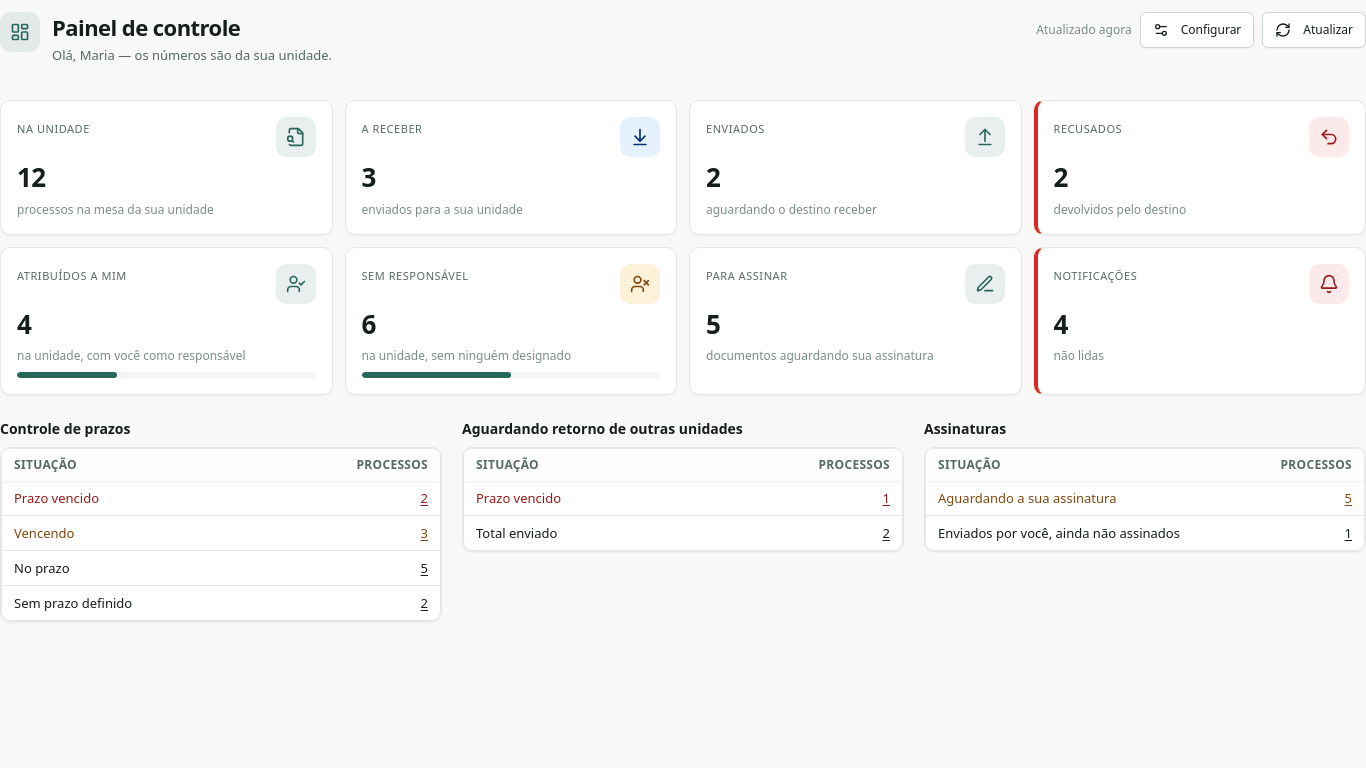
Test: painel de controle — mais perto do SEI › configurar esconde e reordena quadros, e guarda a escolha por usuário
Click the button "Configurar". click: (1197, 30)
box: [1140, 12, 1254, 48]
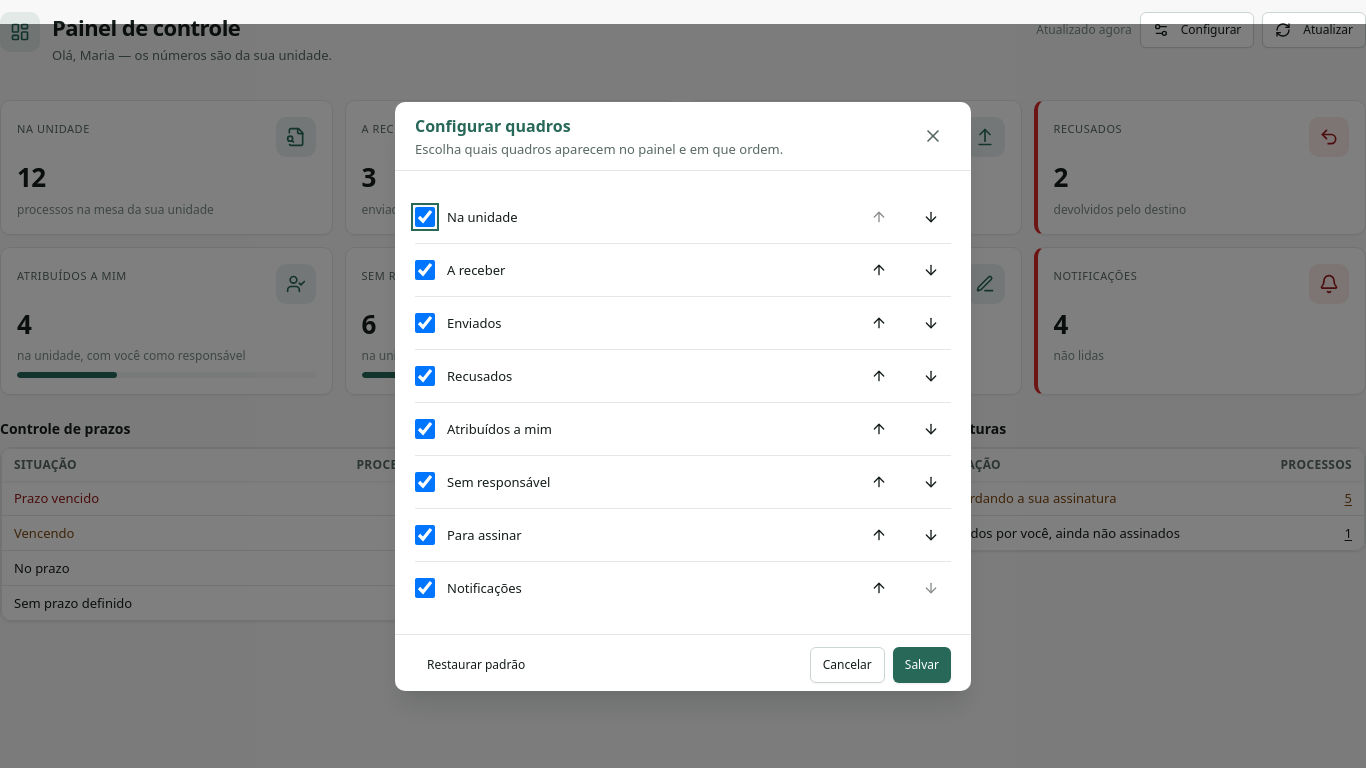
Click the checkbox labelled "Enviados". click: (425, 322)
box: [415, 312, 435, 332]
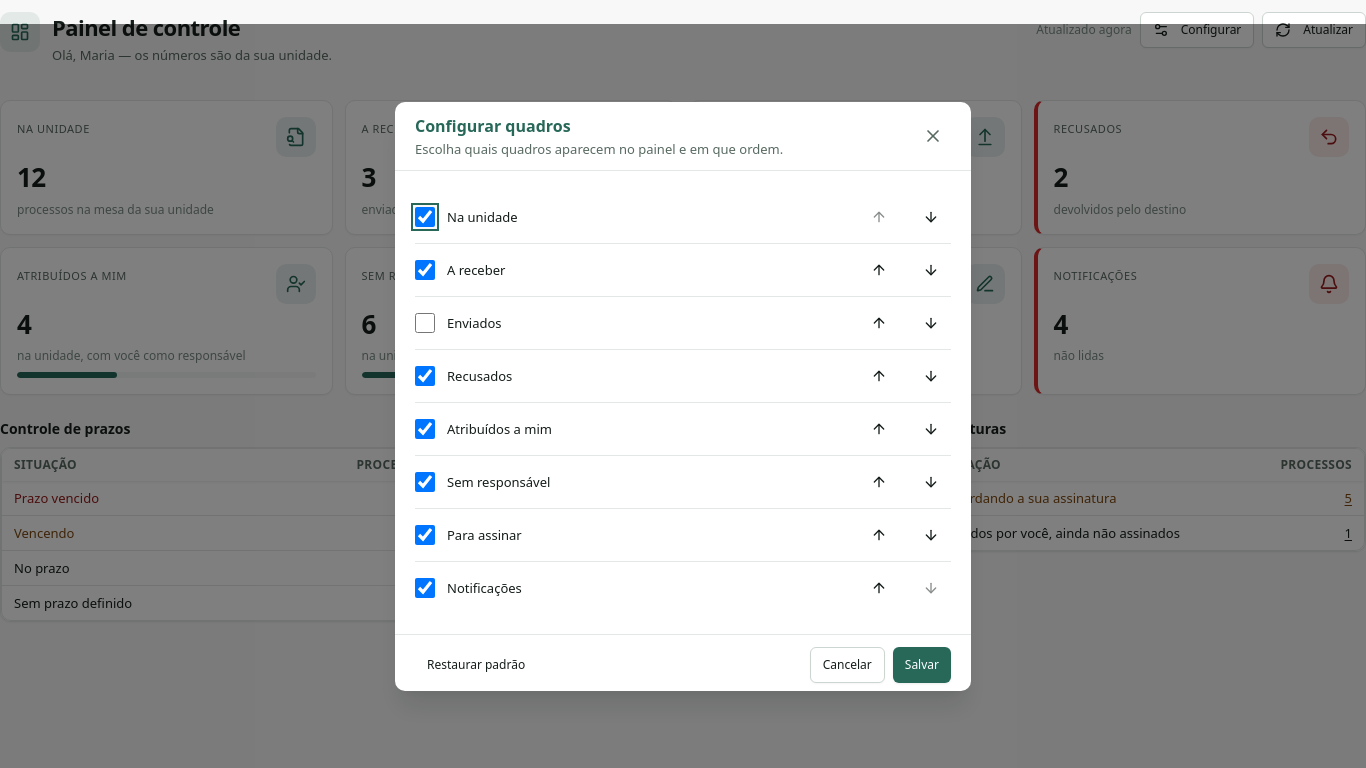
Click the button named "Subir A receber". click: (879, 270)
box: [859, 252, 899, 288]
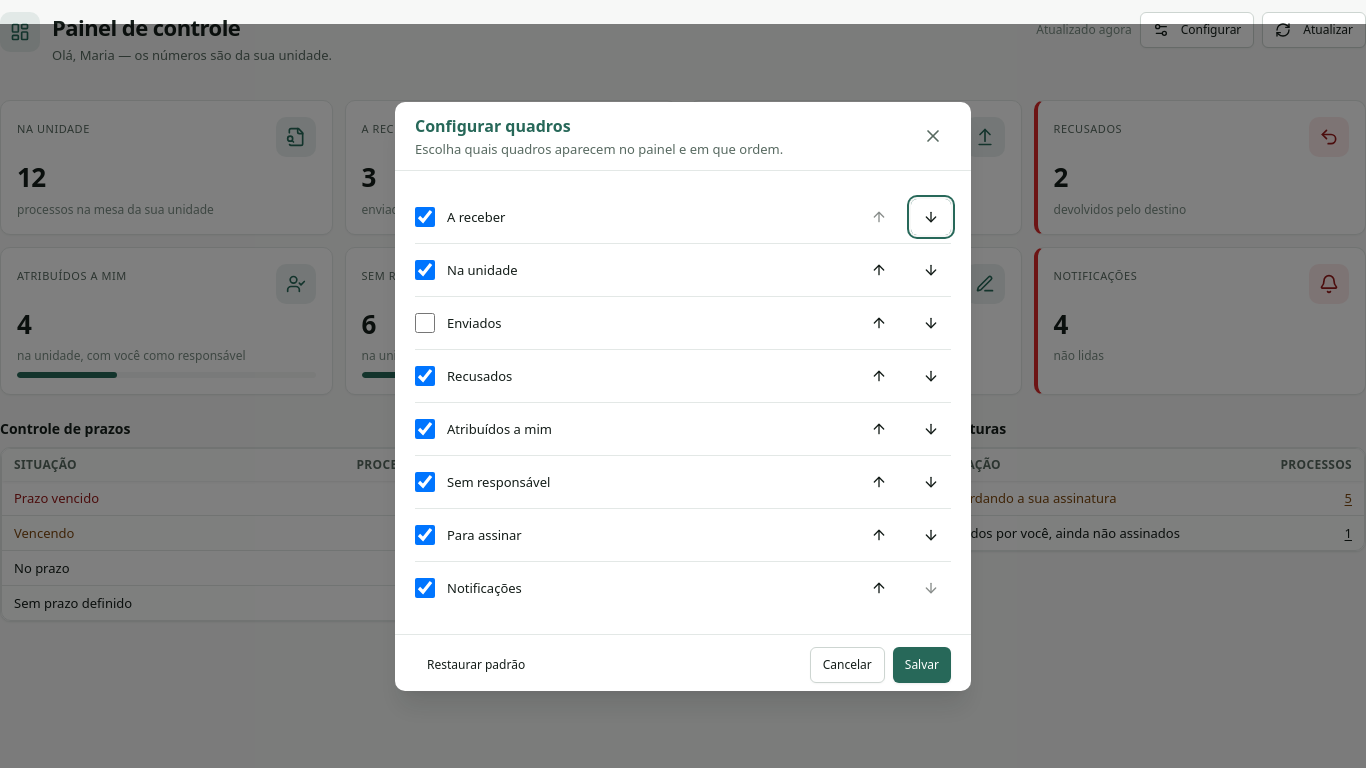
Click the button "Salvar". click: (922, 664)
box: [893, 646, 951, 682]
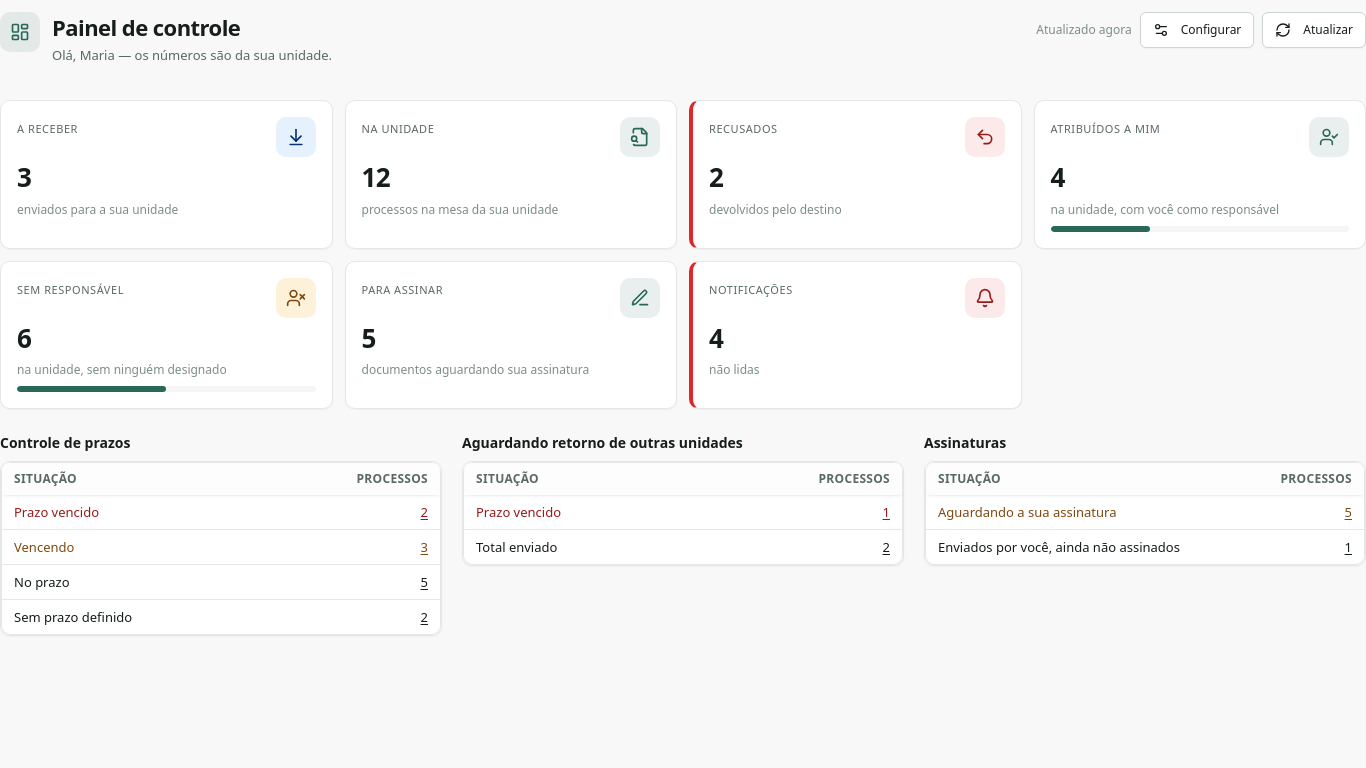
Check: the dialog is gone
